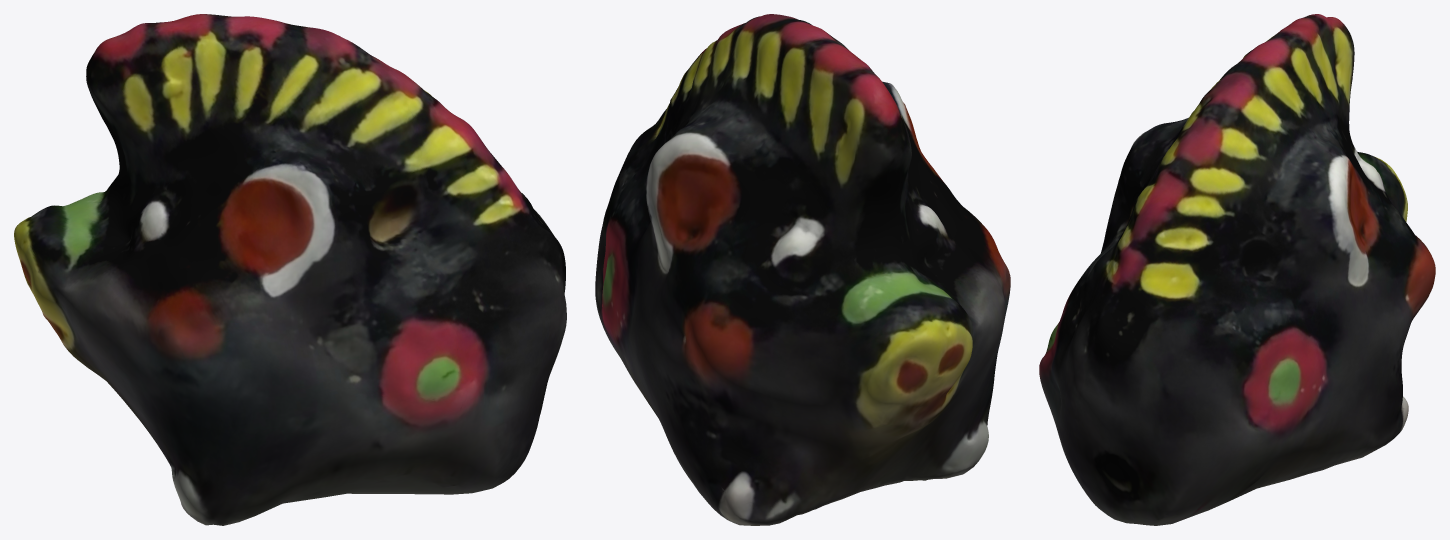
3 renders of one model, left to right at view 1: azimuth 30°, elevation 25°; view 2: azimuth 150°, elevation 25°; view 3: azimuth 270°, elevation 25°, orthographic. The views are drawn at different scales.
Size of the model in its own units: 0.2116 by 0.2161 by 0.1887.
Materials: 1 (1 with a texture image).
